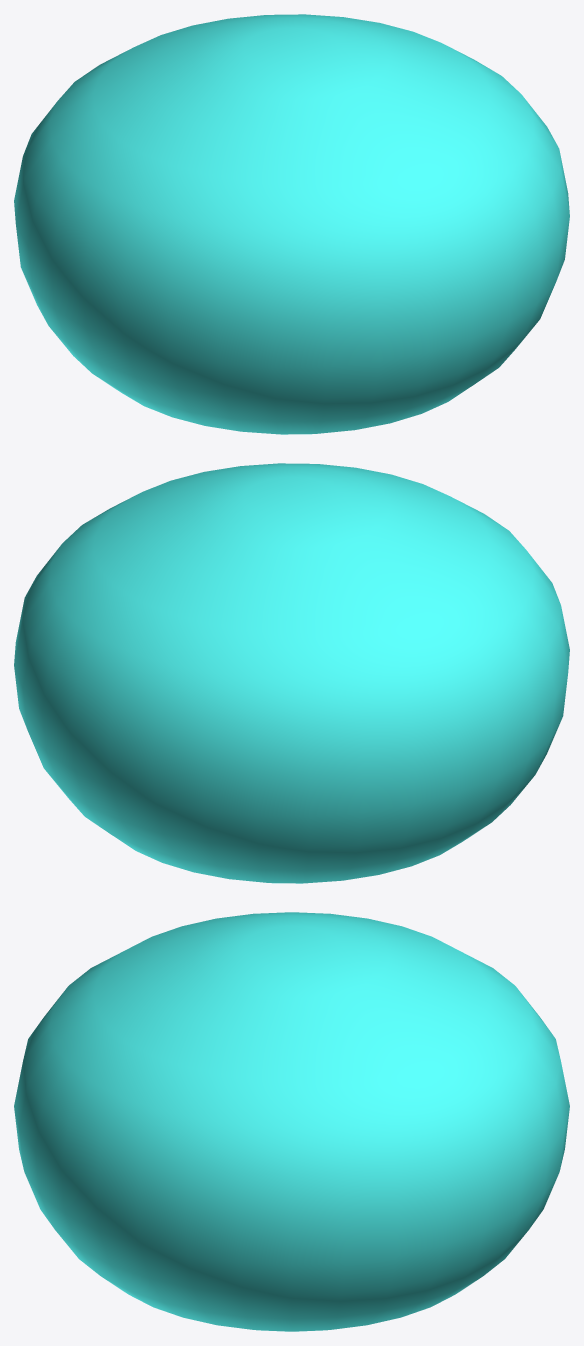
The model's file is slime.fbx.
3 views of the same model, one above another, from view 1: azimuth 30°, elevation 25°; view 2: azimuth 150°, elevation 25°; view 3: azimuth 270°, elevation 25° (orthographic).
Parts seen in each view (by area): view 1: 球.014; view 2: 球.014; view 3: 球.014.
Boxes of the visible parts, x1=… form: 球.014: x1=14, y1=14, x2=569, y2=434; 球.014: x1=14, y1=463, x2=569, y2=883; 球.014: x1=14, y1=912, x2=569, y2=1331.
Bounding box in the file's own units: 293 × 187 × 293.
